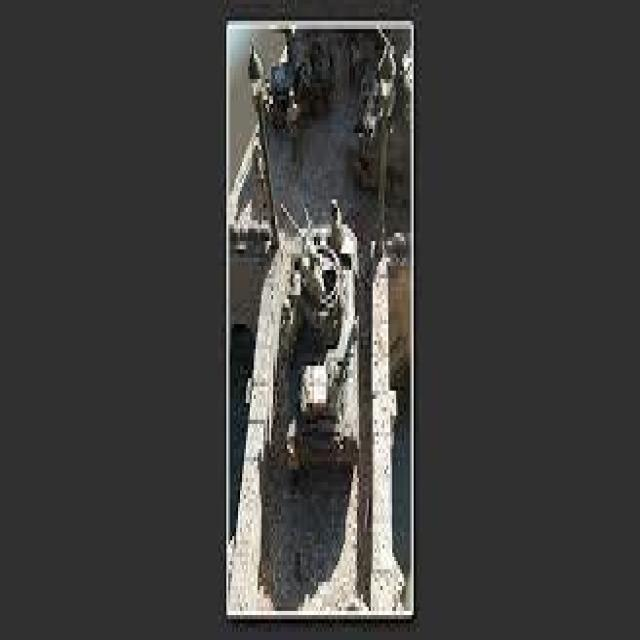Tanks: (286, 220, 364, 470)
